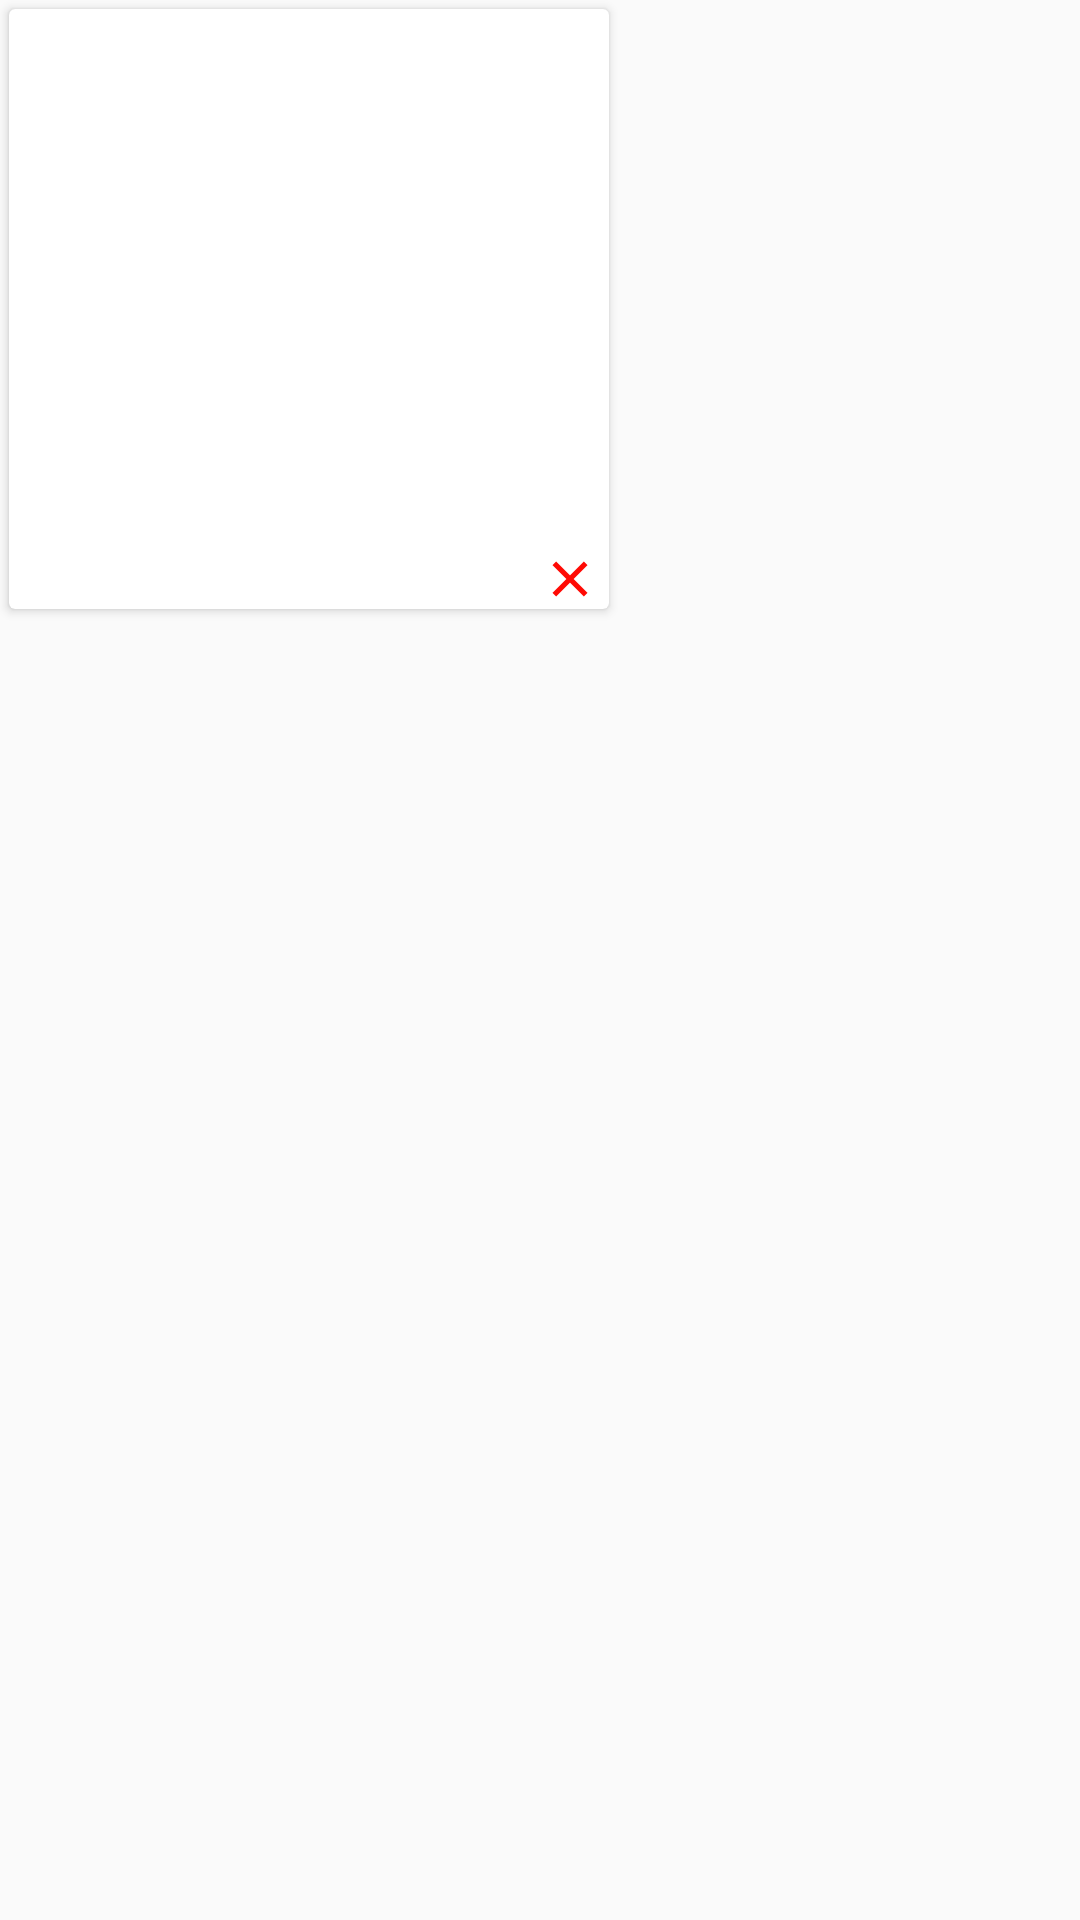

Icons on this 1080 × 1920 Android screen, each with its box as [left=x1, top=y1, right=x2, bottom=y2]:
cancel: [left=552, top=561, right=588, bottom=597]
